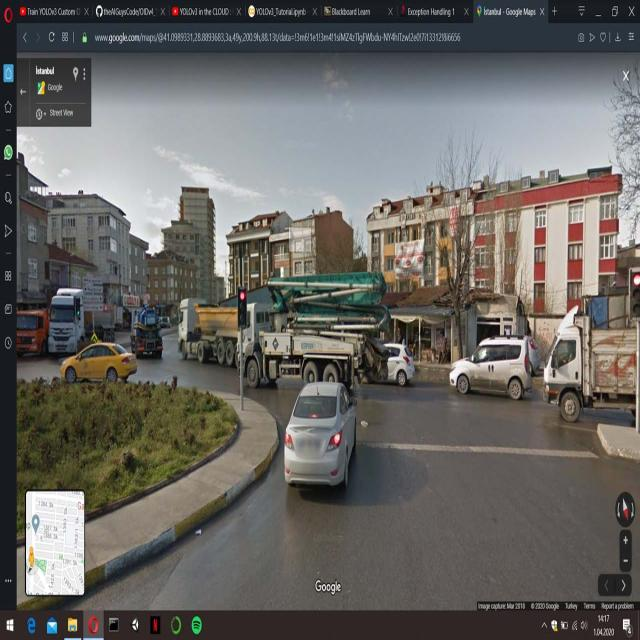kirmizi: (238, 288, 247, 328)
